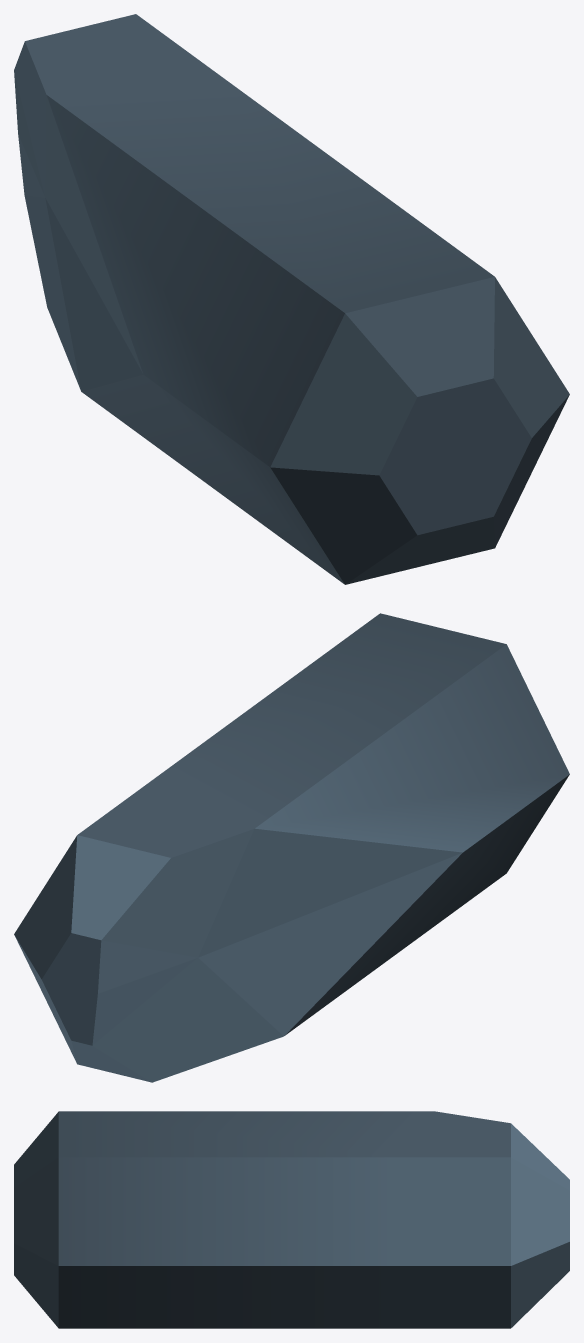
The model's file is CalciteCrystal.007.glb.
3 renders of one model, top to bottom at view 1: azimuth 30°, elevation 25°; view 2: azimuth 150°, elevation 25°; view 3: azimuth 270°, elevation 25°, orthographic. The views are drawn at different scales.
Visible parts, largest first — view 1: CalciteCrystal.007; view 2: CalciteCrystal.007; view 3: CalciteCrystal.007.
Boxes of the visible parts, <box> form: CalciteCrystal.007: <box>14,14,569,584</box>; CalciteCrystal.007: <box>14,613,569,1082</box>; CalciteCrystal.007: <box>14,1111,569,1328</box>.
Size of the model in its own units: 139 by 121 by 355.
